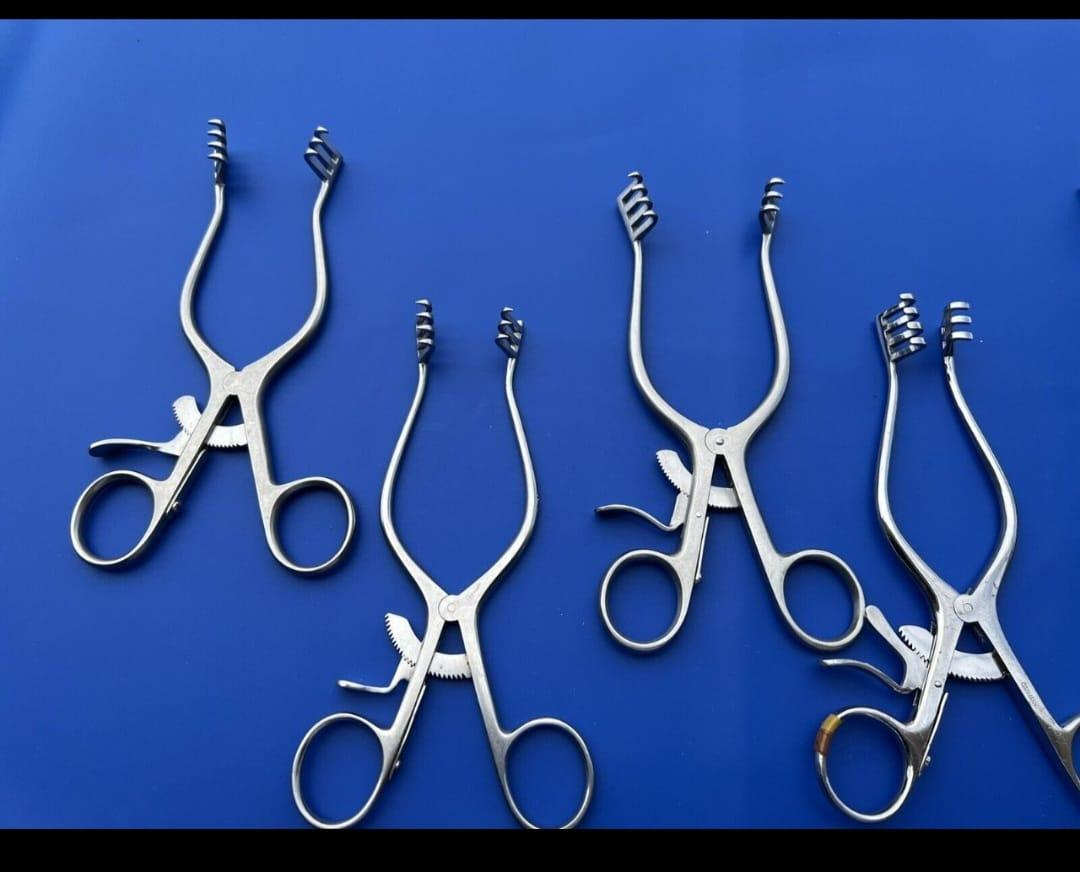Self Retractor: (283, 295, 616, 826), (791, 284, 1078, 830), (59, 108, 359, 575), (594, 175, 860, 654)
